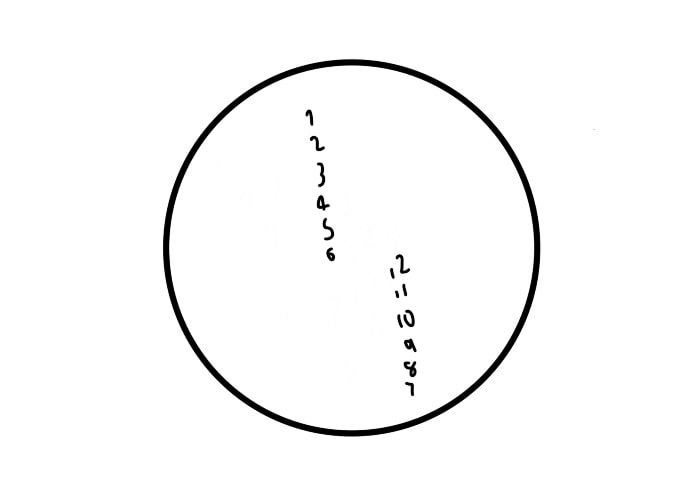eight: (403, 357, 417, 377)
eleven: (393, 285, 409, 300)
five: (321, 214, 335, 240)
four: (315, 194, 331, 216)
nine: (403, 337, 419, 353)
one: (304, 106, 316, 125)
seven: (404, 379, 416, 397)
six: (325, 247, 337, 264)
ten: (397, 307, 415, 328)
three: (316, 160, 327, 189)
twelve: (385, 251, 410, 280)
two: (307, 134, 324, 150)
